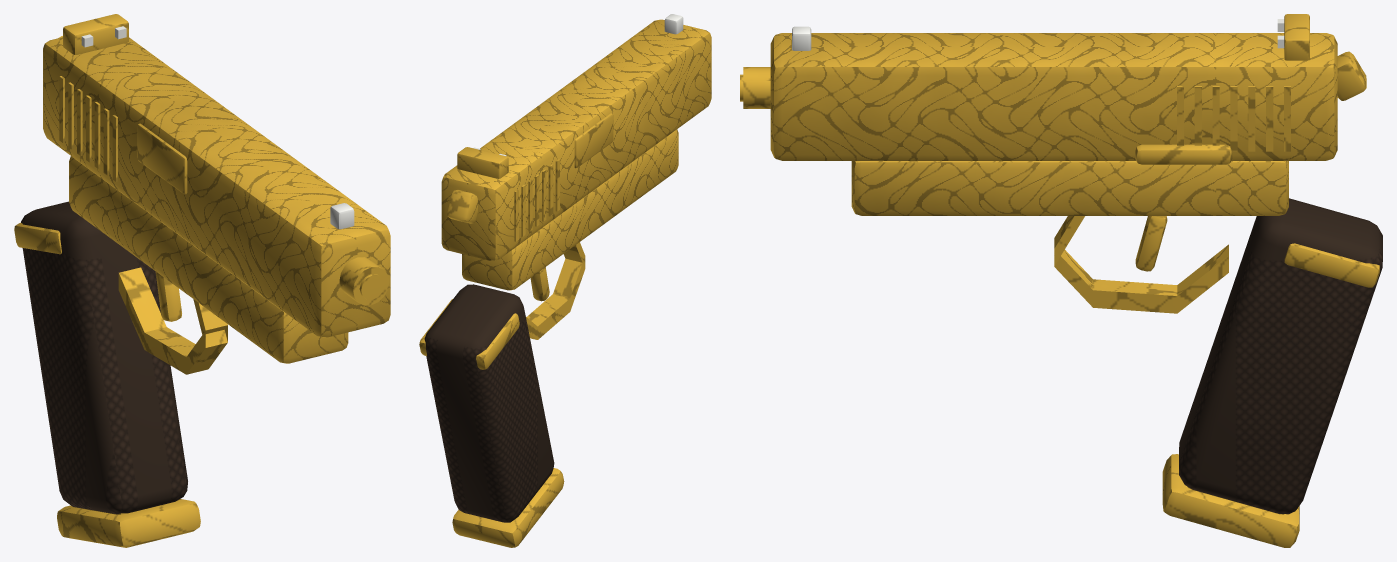
The model's file is w_golden.glb.
3 renders of one model, left to right at view 1: azimuth 30°, elevation 25°; view 2: azimuth 150°, elevation 25°; view 3: azimuth 270°, elevation 25°, orthographic. The views are drawn at different scales.
Parts seen in each view (by area): view 1: w_golden; view 2: w_golden; view 3: w_golden.
Part boxes in pixels (x1=…): w_golden: x1=14, y1=14, x2=390, y2=547; w_golden: x1=419, y1=14, x2=711, y2=547; w_golden: x1=740, y1=14, x2=1382, y2=547.
Bounding box in the file's own units: 0.0325 × 0.1719 × 0.1985.
4 materials, 3 textured.
